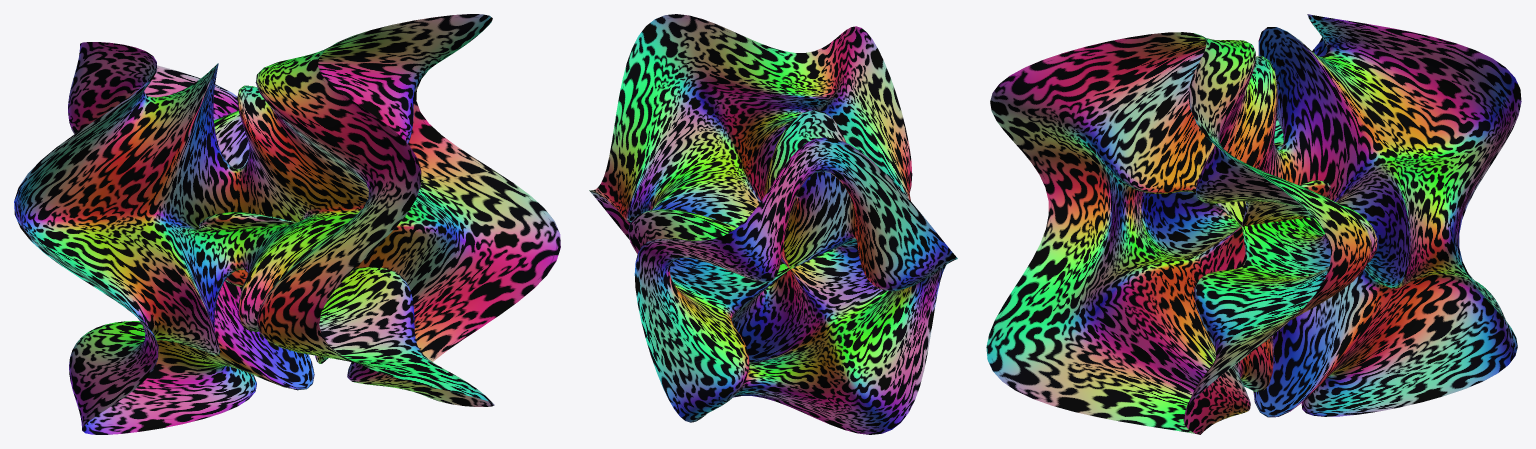
File: freakJoy_3_1_forTHREE.glb
The picture shows the model from 3 angles, left to right: view 1: azimuth 30°, elevation 25°; view 2: azimuth 150°, elevation 25°; view 3: azimuth 270°, elevation 25°; orthographic projection. The views are drawn at different scales.
Visible parts, largest first — view 1: SuperShapesMesh; view 2: SuperShapesMesh; view 3: SuperShapesMesh.
Boxes of the visible parts, left/top/right/bottom form: SuperShapesMesh: left=14, top=14, right=560, bottom=434; SuperShapesMesh: left=589, top=14, right=957, bottom=434; SuperShapesMesh: left=986, top=14, right=1521, bottom=434.
Bounding box in the file's own units: 1.77 × 1.38 × 1.63.
1 material, 1 textured.
